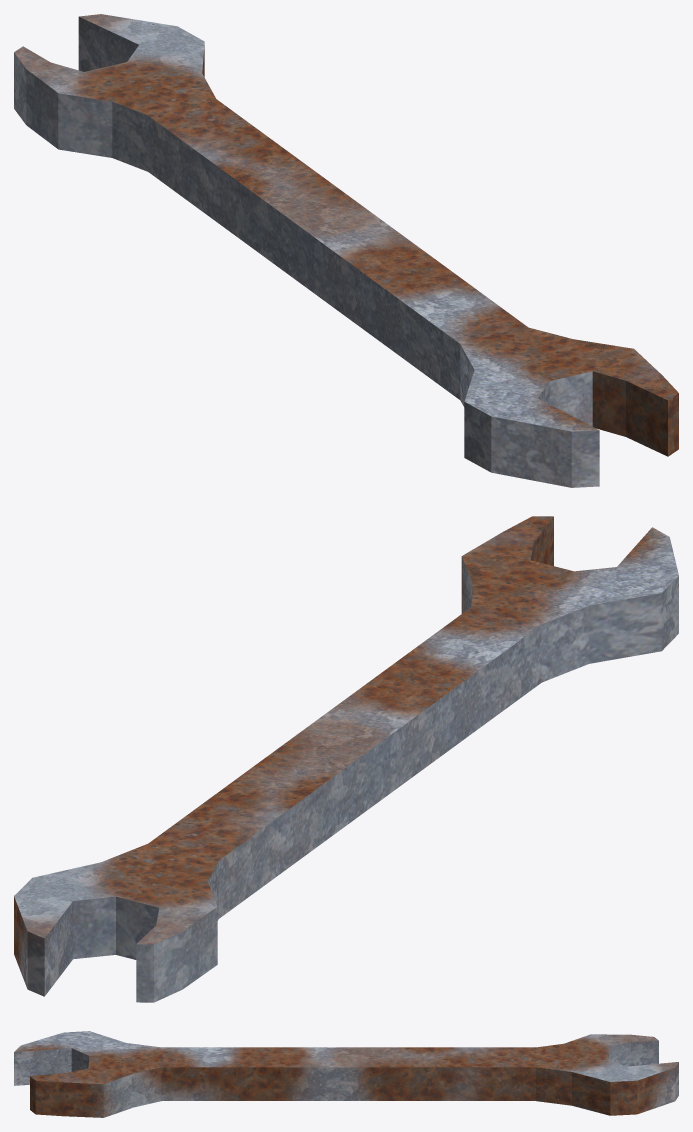
The model's file is itemJawSpanner.fbx.
3 views of the same model, one above another, from view 1: azimuth 30°, elevation 25°; view 2: azimuth 150°, elevation 25°; view 3: azimuth 270°, elevation 25° (orthographic). The views are drawn at different scales.
Parts seen in each view (by area): view 1: itemJawSpanner; view 2: itemJawSpanner; view 3: itemJawSpanner.
Boxes of the visible parts, bbox=[...] form: itemJawSpanner: bbox=[14, 14, 678, 487]; itemJawSpanner: bbox=[14, 516, 678, 1002]; itemJawSpanner: bbox=[14, 1031, 678, 1117].
Size of the model in its own units: 12.9 by 3.82 by 68.21.
1 material, 1 textured.
